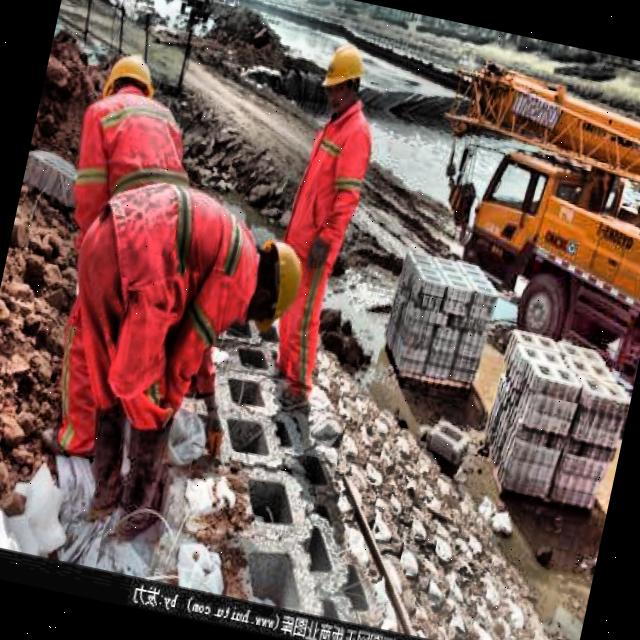helmet: (225, 231, 312, 342), (313, 34, 374, 122), (96, 46, 164, 120)
